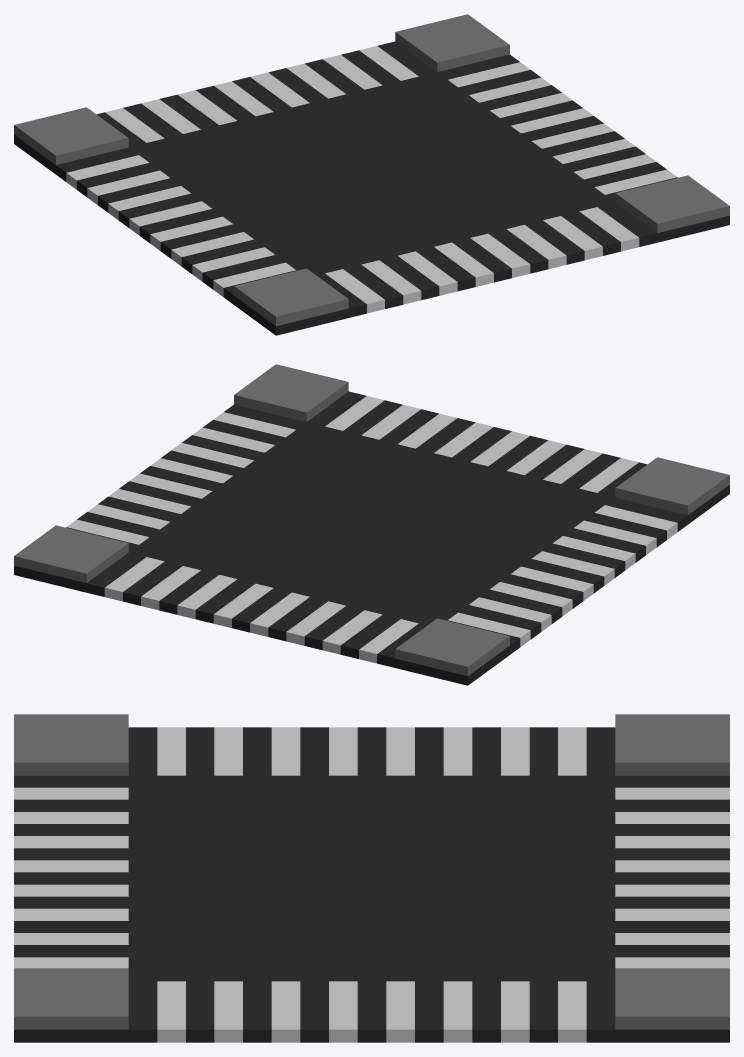
Rendered from road4.obj.
3 renders of one model, top to bottom at view 1: azimuth 30°, elevation 25°; view 2: azimuth 150°, elevation 25°; view 3: azimuth 270°, elevation 25°, orthographic. The views are drawn at different scales.
Bounding box in the file's own units: 5 × 0.2 × 5.
1 material, 1 textured.
